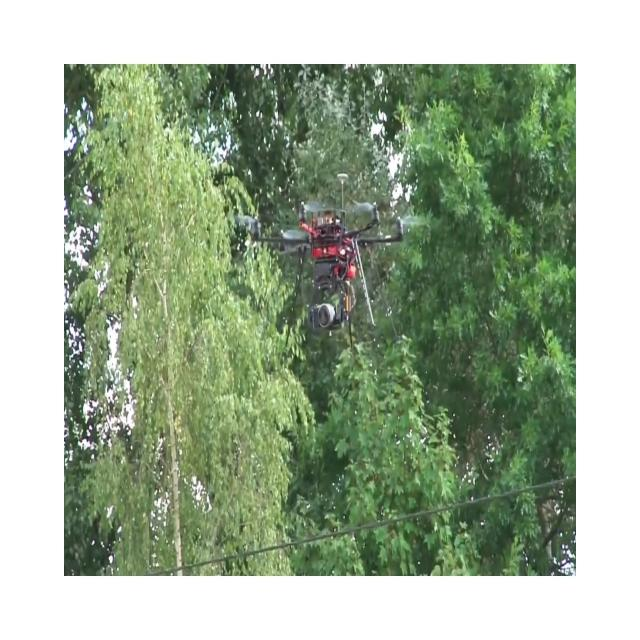drone: (230, 171, 430, 343)
